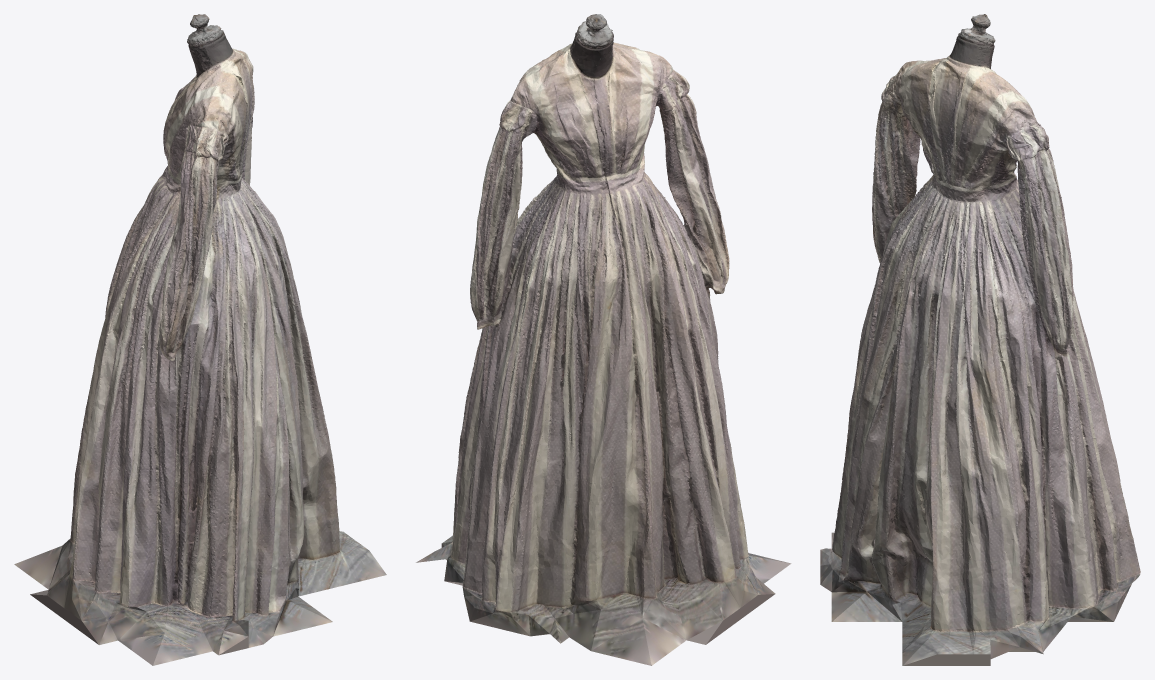
Rendered from testdress0-detail.glb.
3 renders of one model, left to right at view 1: azimuth 30°, elevation 25°; view 2: azimuth 150°, elevation 25°; view 3: azimuth 270°, elevation 25°, orthographic.
Visible parts, largest first — view 1: Mesh_0_Part_0; view 2: Mesh_0_Part_0; view 3: Mesh_0_Part_0.
Boxes of the visible parts, x1,y1,x2,y2 form: Mesh_0_Part_0: (14, 14, 386, 665); Mesh_0_Part_0: (416, 14, 791, 665); Mesh_0_Part_0: (820, 14, 1140, 665).
Size of the model in its own units: 12.04 by 22.66 by 11.41.
Materials: 1 (1 with a texture image).
